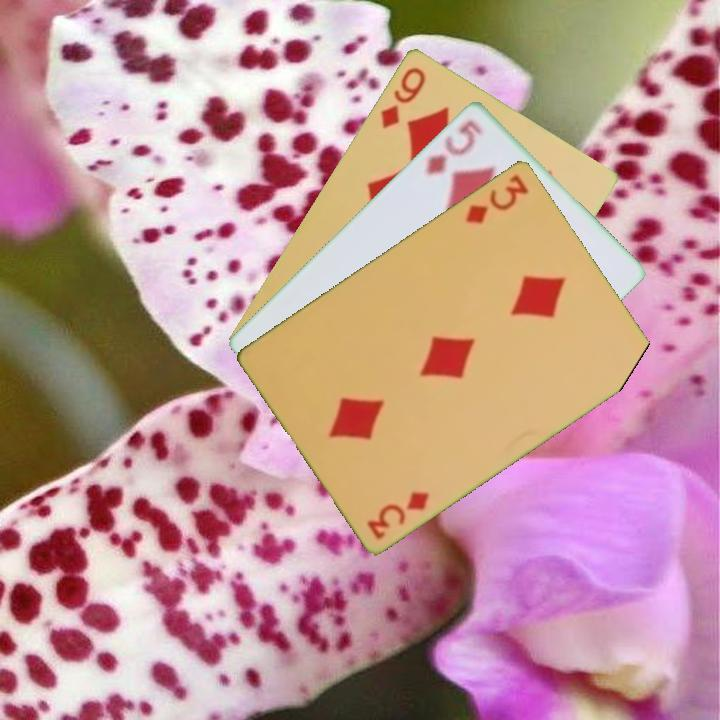3d: (461, 170, 532, 227), (363, 487, 432, 542)
5d: (421, 115, 487, 178)
9d: (377, 62, 429, 131)
